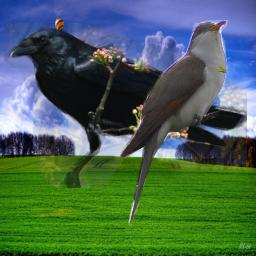Crow: (0, 23, 247, 188)
Cuckoo: (119, 20, 228, 229)
